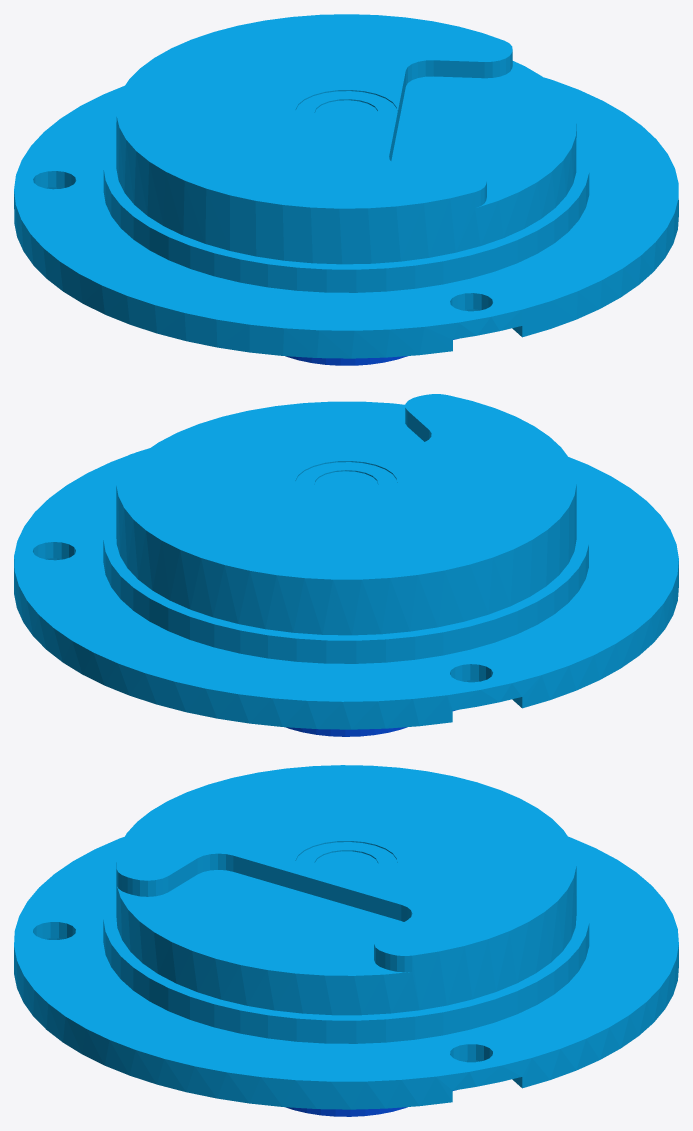
3 renders of one model, top to bottom at view 1: azimuth 30°, elevation 25°; view 2: azimuth 150°, elevation 25°; view 3: azimuth 270°, elevation 25°, orthographic.
Visible parts, largest first — view 1: Sólido1_1, Sólido1:1; view 2: Sólido1_1, Sólido1:1; view 3: Sólido1_1, Sólido1:1.
Part boxes in pixels (x1,y1,x2,y2): Sólido1_1: (14,14,678,358); Sólido1:1: (286,338,458,365); Sólido1_1: (14,394,678,729); Sólido1:1: (286,710,456,736); Sólido1_1: (14,765,678,1109); Sólido1:1: (286,1090,456,1116).
Size of the model in its own units: 52 by 20 by 51.98.
